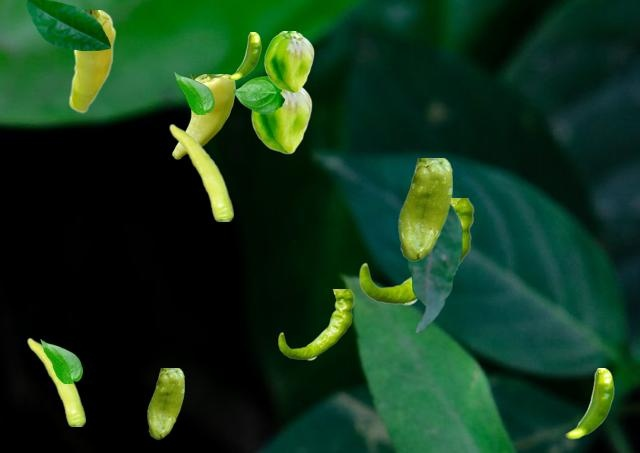green_chili: (359, 198, 473, 304), (169, 123, 232, 220), (398, 158, 451, 260), (278, 289, 353, 359), (172, 74, 234, 158), (27, 337, 84, 425), (68, 10, 115, 112), (251, 87, 311, 153), (565, 368, 613, 438), (264, 31, 313, 92), (147, 368, 183, 438), (228, 32, 260, 79)
